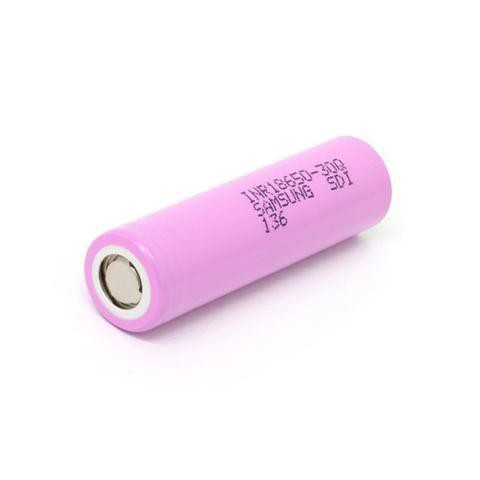Battery: (79, 126, 399, 340)
